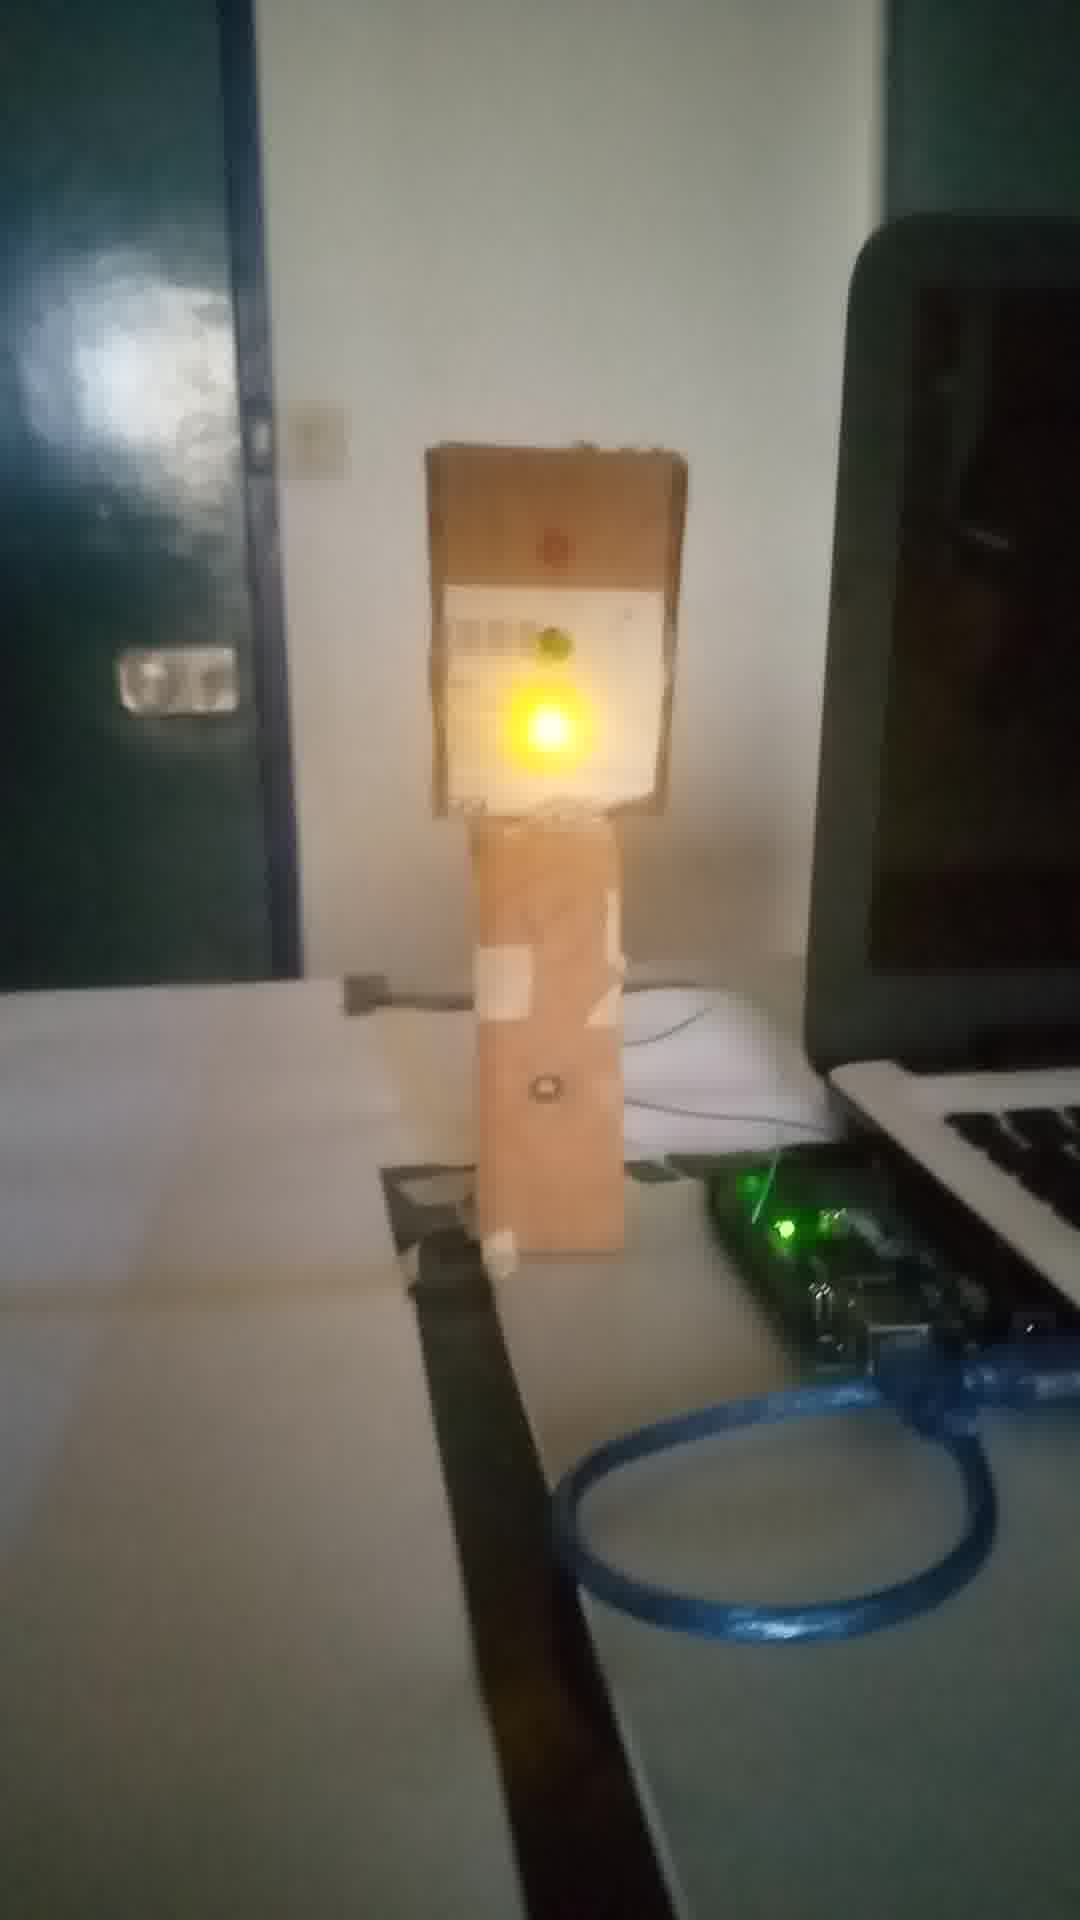green: (418, 446, 680, 837)
